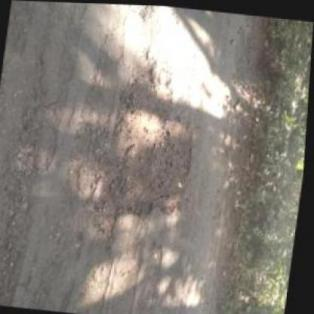Hueco: (89, 54, 206, 230)
